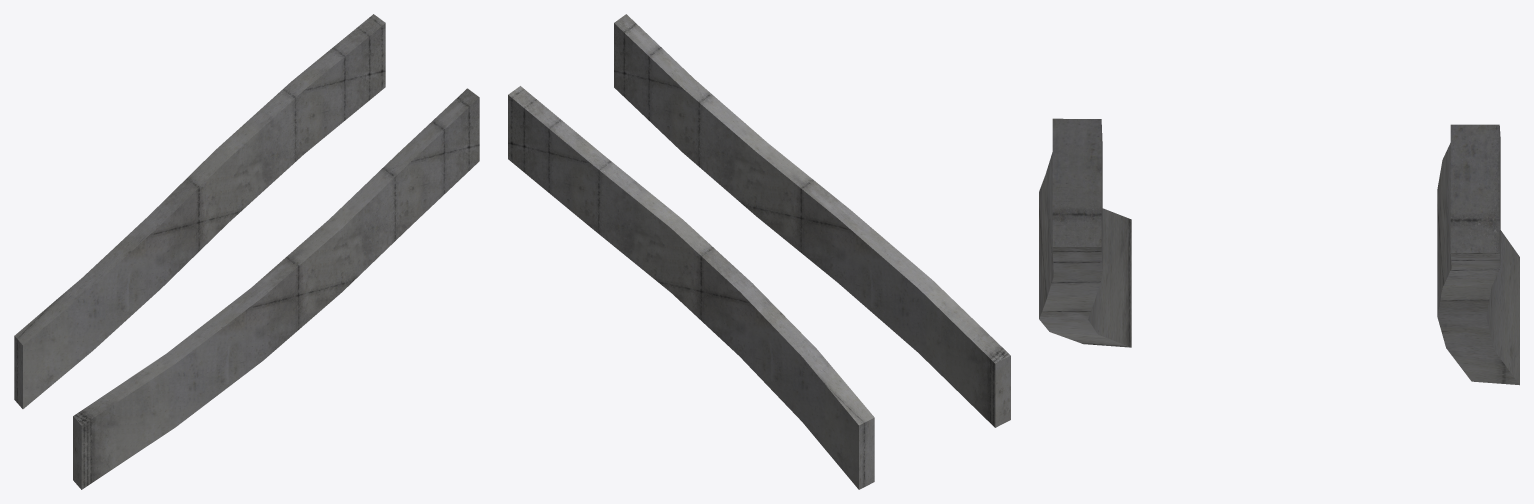
The model's file is SM_ICE00_Rocks.fbx.
3 renders of one model, left to right at view 1: azimuth 30°, elevation 25°; view 2: azimuth 150°, elevation 25°; view 3: azimuth 270°, elevation 25°, orthographic. The views are drawn at different scales.
Parts seen in each view (by area): view 1: SM_ICE00_Rocks; view 2: SM_ICE00_Rocks; view 3: SM_ICE00_Rocks.
Part boxes in pixels (bbox=[...]): SM_ICE00_Rocks: bbox=[14, 14, 479, 489]; SM_ICE00_Rocks: bbox=[508, 14, 1010, 489]; SM_ICE00_Rocks: bbox=[1039, 118, 1519, 385].
Bounding box in the file's own units: 8732 × 6384 × 4589.
